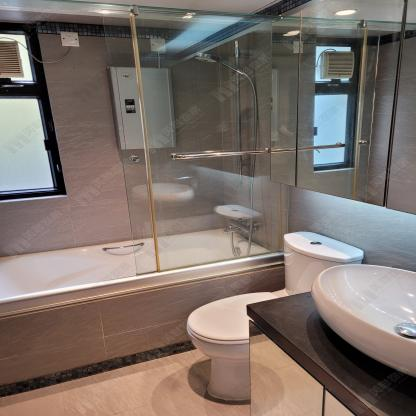Bathtub: (0, 227, 287, 399)
Exhaust Fan: (321, 51, 354, 78)
Toilet: (186, 232, 364, 402)
Toilet Sink: (310, 263, 416, 377)
Water Heater: (107, 67, 179, 150)
